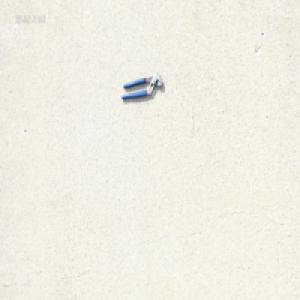Pliers: (120, 72, 164, 101)
